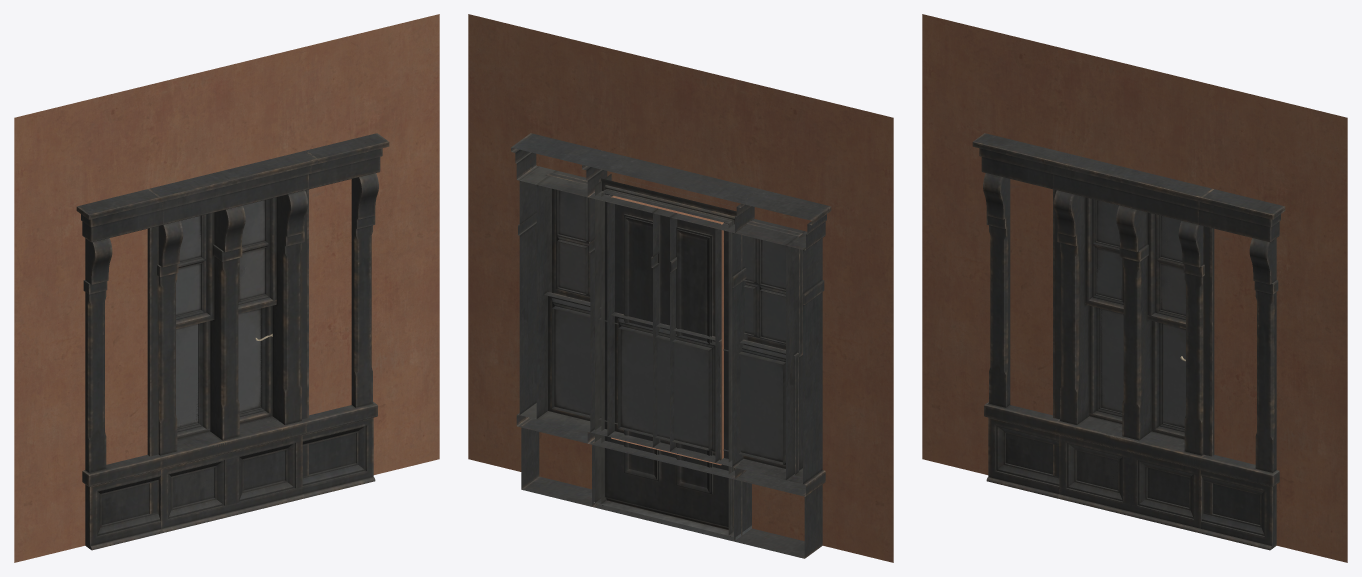
Rendered from facade-modules.glb.
The picture shows the model from 3 angles, left to right: view 1: azimuth 30°, elevation 25°; view 2: azimuth 150°, elevation 25°; view 3: azimuth 330°, elevation 25°; orthographic projection.
Visible parts, largest first — view 1: wall_window_centered_small_03, wall_window_centered_small_01, window_centered_large_01, window_centered_small_01, wall_door_centered_small_02, wall_window_centered_large_01, door_centered_small_02; view 2: wall_window_centered_small_01, wall_window_centered_small_03, window_centered_large_01, door_centered_small_02, wall_door_centered_small_02, window_centered_small_01, window_centered_small_03, wall_window_centered_large_01; view 3: wall_window_centered_small_01, wall_window_centered_small_03, window_centered_large_01, window_centered_small_01, wall_door_centered_small_02, wall_window_centered_large_01, door_centered_small_02.
Part boxes in pixels (<box>): wall_window_centered_small_03: <box>14,15,439,562</box>; wall_window_centered_small_01: <box>14,14,439,562</box>; window_centered_large_01: <box>76,133,389,550</box>; window_centered_small_01: <box>148,152,317,532</box>; wall_door_centered_small_02: <box>14,15,439,561</box>; wall_window_centered_large_01: <box>14,14,439,474</box>; door_centered_small_02: <box>147,189,308,513</box>; wall_window_centered_small_01: <box>468,14,893,562</box>; wall_window_centered_small_03: <box>468,14,893,561</box>; window_centered_large_01: <box>511,133,831,558</box>; door_centered_small_02: <box>594,174,751,539</box>; wall_door_centered_small_02: <box>468,18,893,559</box>; window_centered_small_01: <box>582,150,754,541</box>; window_centered_small_03: <box>608,179,736,460</box>; wall_window_centered_large_01: <box>468,15,892,488</box>; wall_window_centered_small_01: <box>922,16,1347,562</box>; wall_window_centered_small_03: <box>922,15,1347,562</box>; window_centered_large_01: <box>972,133,1285,550</box>; window_centered_small_01: <box>1044,151,1213,532</box>; wall_door_centered_small_02: <box>922,16,1347,534</box>; wall_window_centered_large_01: <box>922,14,1347,562</box>; door_centered_small_02: <box>1053,189,1214,513</box>.
Size of the model in its own units: 3 by 3 by 0.39.
4 materials, 4 textured.
